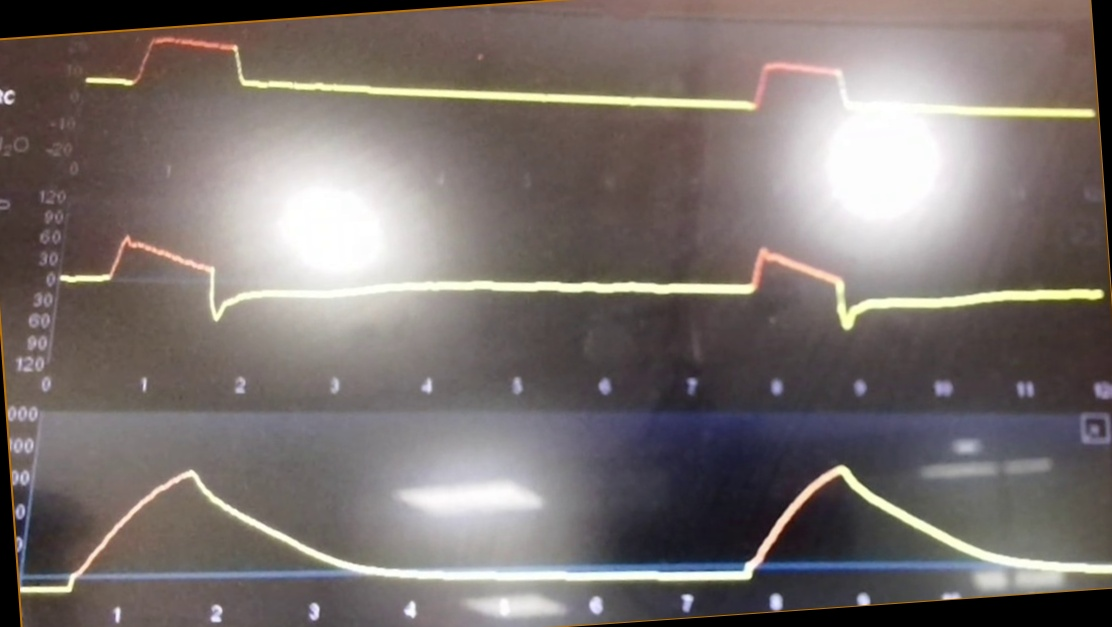Normal Flow: (62, 202, 1107, 356)
Normal Volume: (24, 445, 1111, 589)
